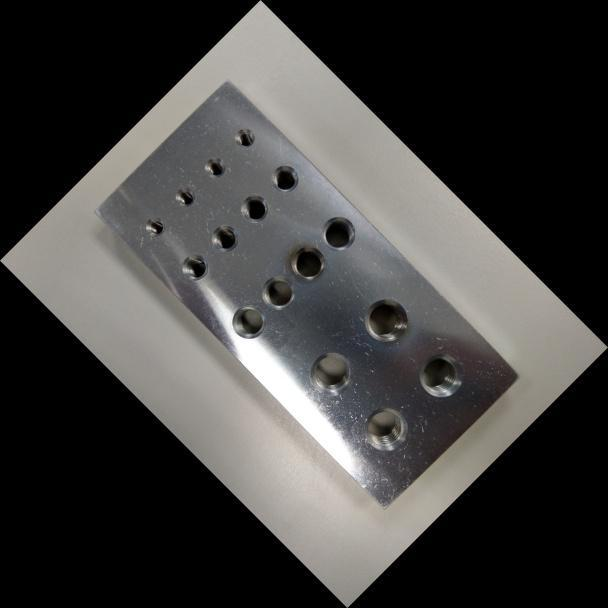hole: (354, 288, 417, 351), (354, 397, 417, 460), (410, 344, 472, 406), (300, 342, 361, 404), (313, 208, 363, 258), (253, 267, 302, 316), (283, 238, 332, 287), (224, 297, 272, 345), (234, 188, 274, 228), (205, 218, 245, 257), (265, 159, 304, 198), (176, 248, 213, 285), (199, 152, 230, 182), (140, 212, 169, 241), (171, 182, 199, 211), (231, 123, 259, 151)
